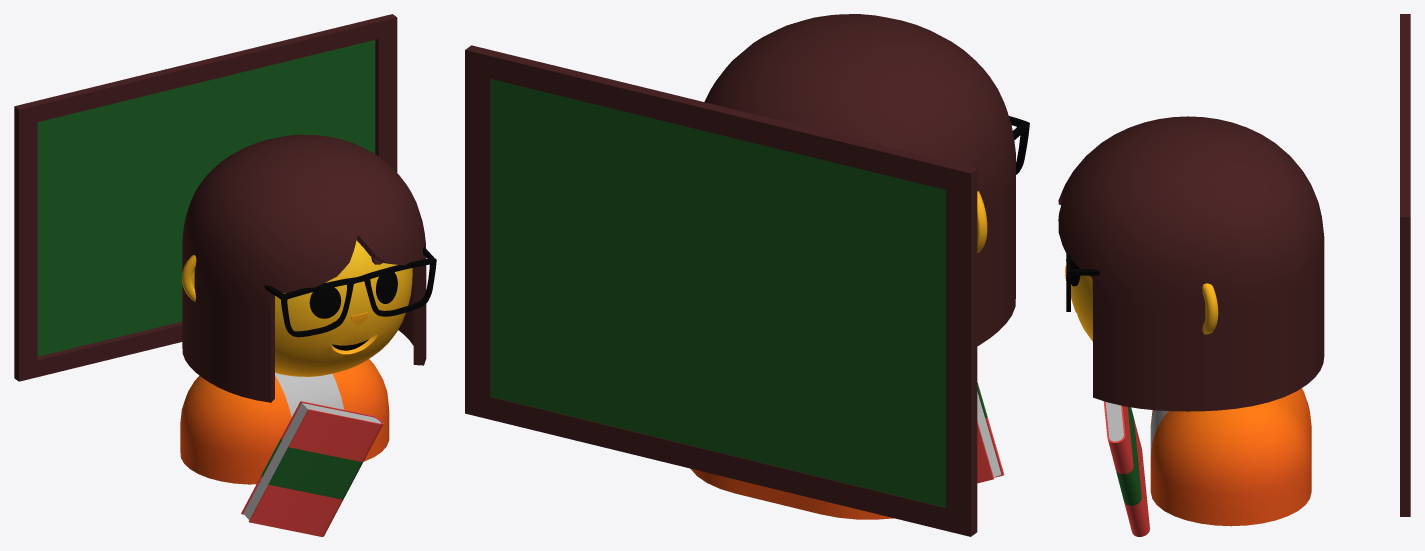
File: woman_teacher.glb
3 views of the same model, side by side, from view 1: azimuth 30°, elevation 25°; view 2: azimuth 150°, elevation 25°; view 3: azimuth 270°, elevation 25° (orthographic). The views are drawn at different scales.
Parts seen in each view (by area): view 1: Plane.037, Roundcube.084, Sphere.042, Cube.1055, Roundcube.083, Plane.036, Circle.573; view 2: Plane.037, Roundcube.084, Sphere.042, Cube.1055; view 3: Roundcube.084, Sphere.042, Plane.037, Cube.1055, Roundcube.083, Cylinder.075, Plane.036.
Boxes of the visible parts, x1=… form: Plane.037: x1=14, y1=14, x2=397, y2=381; Roundcube.084: x1=182, y1=134, x2=426, y2=402; Sphere.042: x1=180, y1=359, x2=389, y2=484; Cube.1055: x1=241, y1=401, x2=383, y2=536; Roundcube.083: x1=275, y1=240, x2=412, y2=376; Plane.036: x1=264, y1=247, x2=436, y2=337; Circle.573: x1=309, y1=272, x2=397, y2=318; Plane.037: x1=465, y1=45, x2=977, y2=536; Roundcube.084: x1=704, y1=14, x2=1015, y2=346; Sphere.042: x1=690, y1=468, x2=893, y2=519; Cube.1055: x1=977, y1=382, x2=1004, y2=483; Roundcube.084: x1=1058, y1=116, x2=1324, y2=411; Sphere.042: x1=1150, y1=388, x2=1311, y2=526; Plane.037: x1=1400, y1=14, x2=1410, y2=516; Cube.1055: x1=1103, y1=401, x2=1149, y2=536; Roundcube.083: x1=1066, y1=259, x2=1092, y2=341; Cylinder.075: x1=1202, y1=283, x2=1218, y2=334; Plane.036: x1=1066, y1=253, x2=1099, y2=311.
Bounding box in the file's own units: 2.99 × 2.9 × 2.19.
2 materials, 2 textured.
